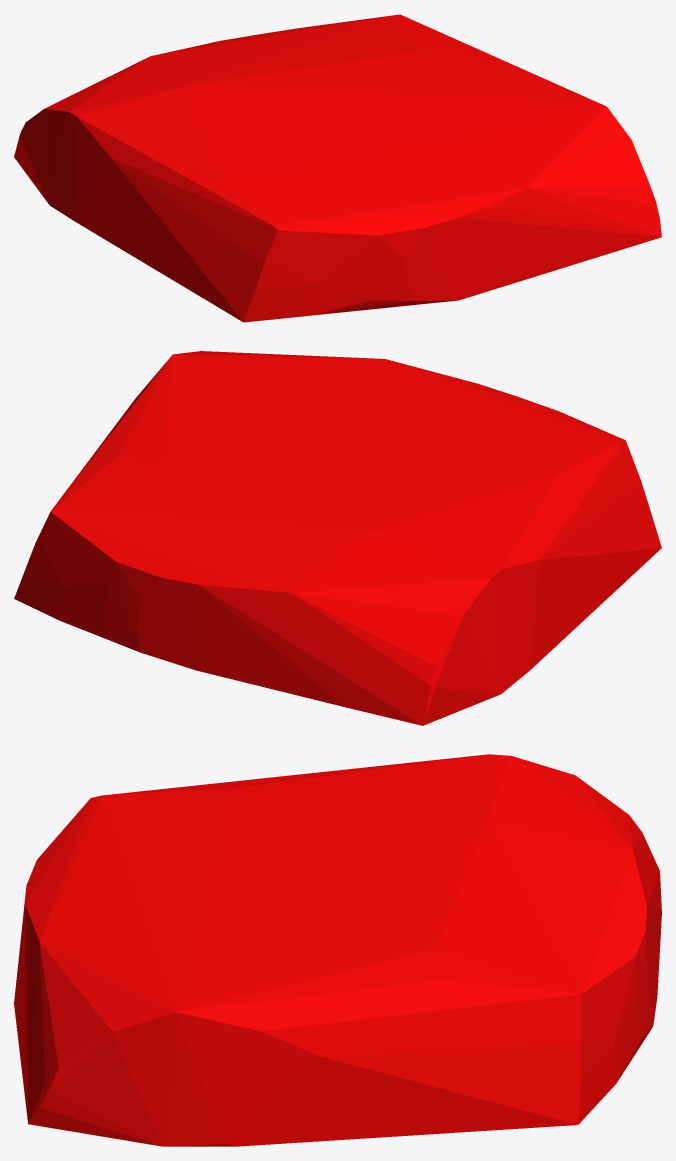
The model's file is wrist_pitch_0091_convex_hull_07.obj.
The picture shows the model from 3 angles, top to bottom: view 1: azimuth 30°, elevation 25°; view 2: azimuth 150°, elevation 25°; view 3: azimuth 270°, elevation 25°; orthographic projection. The views are drawn at different scales.
Visible parts, largest first — view 1: wrist_pitch_0091_convex_hull_07; view 2: wrist_pitch_0091_convex_hull_07; view 3: wrist_pitch_0091_convex_hull_07.
Part boxes in pixels (x1,y1,x2,y2): wrist_pitch_0091_convex_hull_07: (14,14,661,322); wrist_pitch_0091_convex_hull_07: (14,351,661,725); wrist_pitch_0091_convex_hull_07: (14,754,661,1146).
Size of the model in its own units: 0.0629 by 0.014 by 0.0625.
